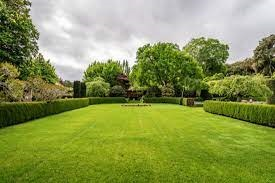grass: (2, 118, 272, 180), (64, 103, 204, 117)
